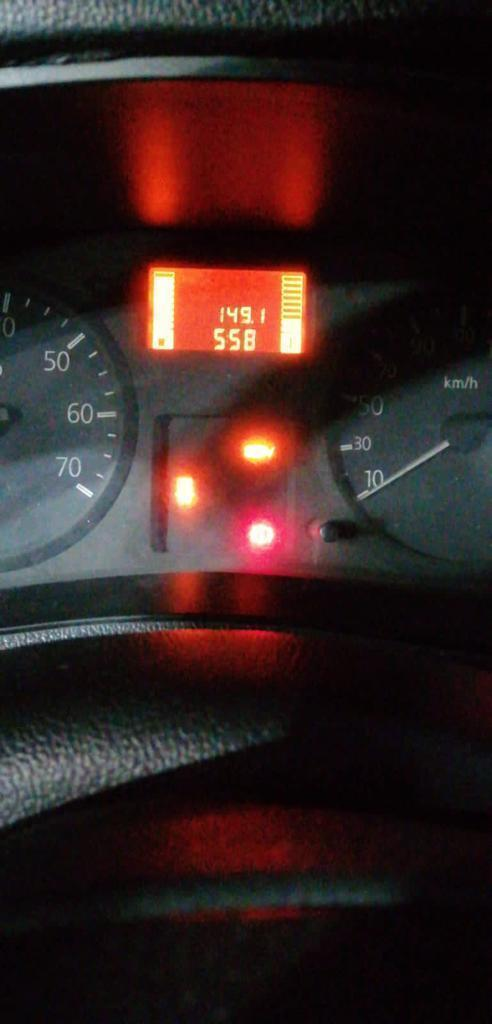,: (250, 319, 255, 325)
1: (258, 305, 267, 324), (218, 305, 224, 324)
4: (227, 305, 238, 323)
5: (212, 326, 226, 351), (228, 327, 240, 352)
8: (243, 328, 256, 352)
9: (240, 305, 251, 324)
odometer: (146, 262, 309, 356)
